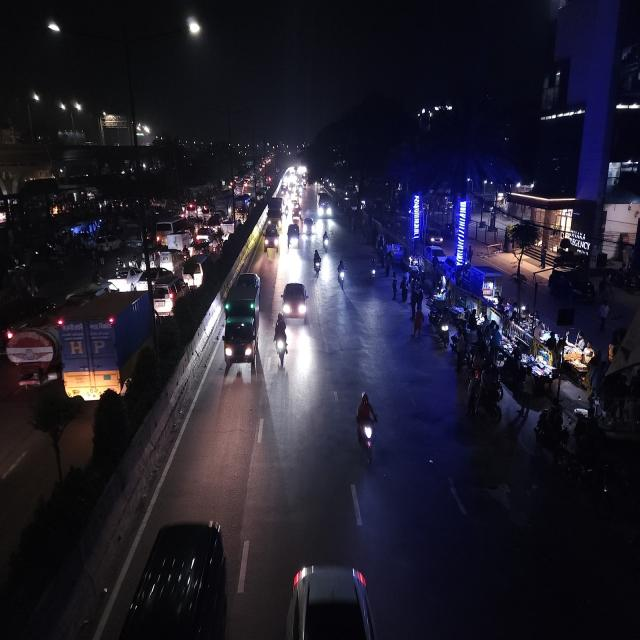bus: (155, 217, 194, 250), (317, 189, 334, 221)
car: (151, 275, 187, 319), (280, 280, 310, 325), (108, 265, 141, 292), (182, 257, 205, 290), (262, 229, 282, 252), (425, 226, 444, 249), (286, 221, 300, 252), (302, 215, 316, 240), (206, 212, 225, 230), (221, 219, 237, 238), (196, 227, 212, 242), (292, 203, 302, 222)
motorcycle: (353, 388, 381, 470), (273, 310, 290, 366), (335, 256, 347, 292), (312, 248, 323, 279), (368, 256, 378, 285), (321, 230, 332, 254)
pedestrian: (464, 367, 484, 418), (410, 307, 426, 340), (408, 280, 422, 316), (400, 273, 410, 303), (390, 272, 400, 300)
truck: (58, 289, 158, 405), (3, 312, 61, 393), (220, 278, 262, 374), (267, 198, 282, 228)
